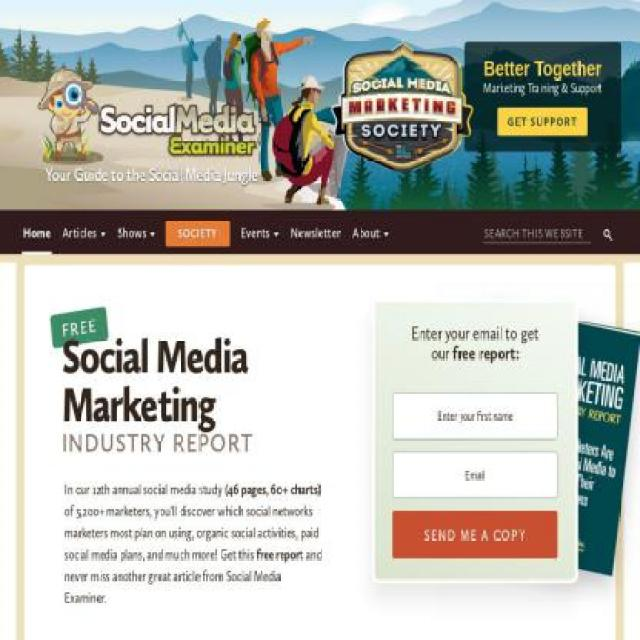button: (498, 107, 588, 136), (288, 210, 342, 255), (61, 210, 107, 255), (115, 210, 157, 255), (238, 210, 280, 255), (165, 219, 230, 247), (352, 210, 390, 255), (22, 210, 52, 255), (600, 224, 615, 245)
field: (392, 392, 558, 440), (392, 452, 558, 499), (392, 511, 558, 558), (484, 225, 588, 241)
